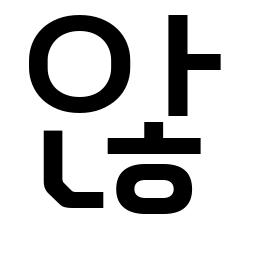Gaji: (152, 41, 206, 87)
